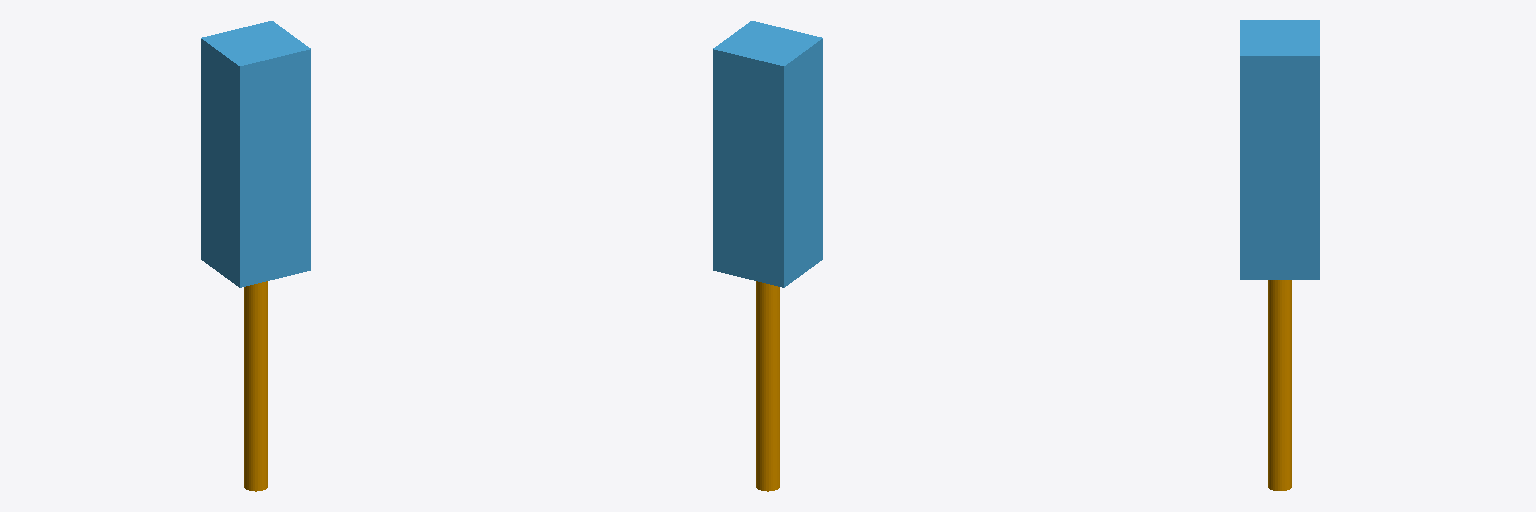
robot.urdf — screwdriver_on_the_table:
<?xml version="1.0" ?>
<!-- this is the one without any virtual joints and links -->
<robot name="screwdriver_on_the_table">
<link name="screwdriver_stick">
    <inertial>
      <mass value="0.05"/>
      <!-- <friction value="1.0"/> -->
      <inertia ixx="0.000041979" ixy="0.0" ixz="0.0" iyy="0.000041979" iyz="0.0" izz="0.000000625"/>
    </inertial>
    <visual>
        <origin rpy="0 0 0" xyz="0 0 0.05"/>
        <geometry>
            <cylinder radius="0.005" length="0.1"/>
        </geometry>
        <!-- <material name="White">
	 	    <color rgba="0.9 0.9 0.9 0.5"/>
        </material> -->
    </visual>
    <collision>
        <origin rpy="0 0 0" xyz="0 0 0.05"/>
        <geometry>
            <cylinder radius="0.005" length="0.1"/>
        </geometry>
    </collision>
</link>

<gazebo reference="screwdriver_body">
    <mu1>0.569637</mu1>
    <mu2>0.705703</mu2>
    <!-- Isaac Sim maps mu1/mu2 to PhysX static/dynamic friction during URDF→USD import -->
</gazebo>

<joint name="screwdriver_stick_body_joint" type="fixed">
    <parent link="screwdriver_stick"/>
    <child link="screwdriver_body"/>
    <origin rpy="0 0 0" xyz="0 0 0.1"/> 
    <axis xyz="0 0 1"/>
</joint>

<link name="screwdriver_body">
    <inertial>
      <mass value="0.068151"/>
      <inertia ixx="0.000062607" ixy="0.0" ixz="0.0" iyy="0.000063290" iyz="0.0" izz="0.000012313"/>
    </inertial>
    <visual>
        <origin rpy="0 0 0" xyz="0 0 0.05"/>
        <geometry>
            <box size="0.033825 0.031999 0.100000"/>
        </geometry>
        <!-- <material name="Red1">
	 	    <color rgba="0.9 0. 0. 0.5"/>
        </material> -->
    </visual>
    <collision>
        <origin rpy="0 0 0" xyz="0 0 0.05"/>
        <geometry>
            <box size="0.033825 0.031999 0.100000"/>
        </geometry>
    </collision>
</link>

<!-- <joint name="screwdriver_body_cap_joint" type="revolute">
    <parent link="screwdriver_body"/>
    <child link="screwdriver_cap"/>
    <origin rpy="0 0 0" xyz="0 0 0.1"/> 
    <axis xyz="0 0 1"/>
</joint>

<link name="screwdriver_cap">
    <inertial>
      <mass value="0.005"/>
      <inertia ixx="0.00001" ixy="0.0" ixz="0.0" iyy="0.000005" iyz="0.0" izz="0.000005"/>
    </inertial>
    <visual>
        <origin rpy="0 0 0" xyz="0 0 0.0006"/>
        <geometry>
            <cylinder radius="0.02" length="0.001"/>
        </geometry>
        <material name="Yellow">
	 	    <color rgba="0.9 0.9 0. 1.0"/>
        </material>
    </visual>
    <collision>
        <origin rpy="0 0 0" xyz="0 0 0.0005"/>
        <geometry>
            <cylinder radius="0.02" length="0.001"/>
        </geometry>
    </collision>
</link> -->

</robot>

--- Render facts (derived) ---
The picture shows the robot from 3 angles, left to right: view 1: azimuth 30°, elevation 25°; view 2: azimuth 150°, elevation 25°; view 3: azimuth 270°, elevation 25°; orthographic projection.
Model screwdriver_on_the_table with 2 links and 1 joints (1 fixed), rooted at screwdriver_stick, posed all joints at 0.
Links seen in each view (by area): view 1: screwdriver_body, screwdriver_stick; view 2: screwdriver_body, screwdriver_stick; view 3: screwdriver_body, screwdriver_stick.
Link boxes in pixels (left/top/right/bottom): screwdriver_body: left=201, top=21, right=310, bottom=287; screwdriver_stick: left=244, top=281, right=267, bottom=491; screwdriver_body: left=713, top=21, right=822, bottom=287; screwdriver_stick: left=756, top=281, right=779, bottom=491; screwdriver_body: left=1240, top=20, right=1319, bottom=279; screwdriver_stick: left=1268, top=280, right=1291, bottom=490.
Size in the robot's own frame: 0.0338 by 0.032 by 0.2 metres.
Geometry: primitives only (box / cylinder / sphere), no mesh files.
